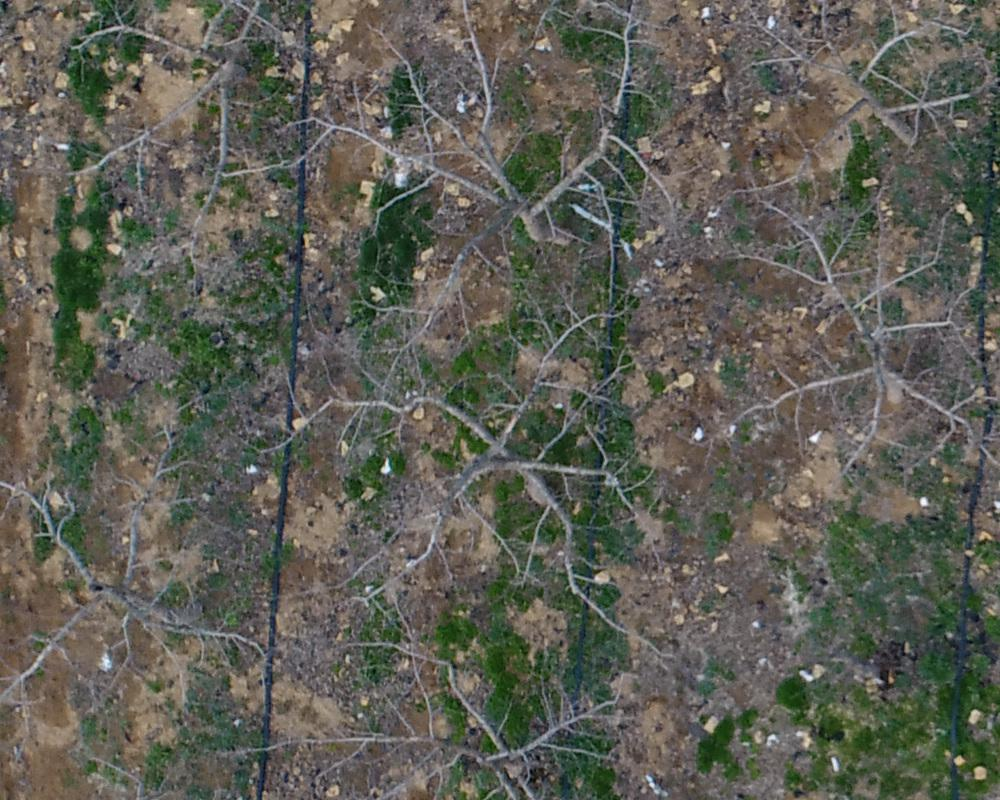apple: (263, 296, 669, 649), (252, 10, 652, 312), (701, 164, 990, 482), (10, 425, 262, 749), (265, 616, 639, 790), (42, 10, 322, 240), (721, 10, 990, 168)
